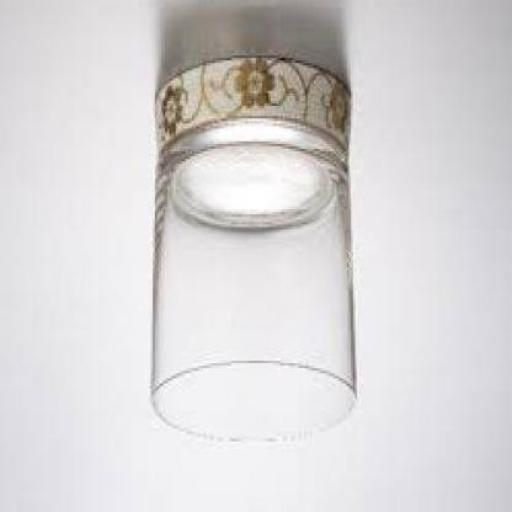glass: (149, 58, 353, 444)
